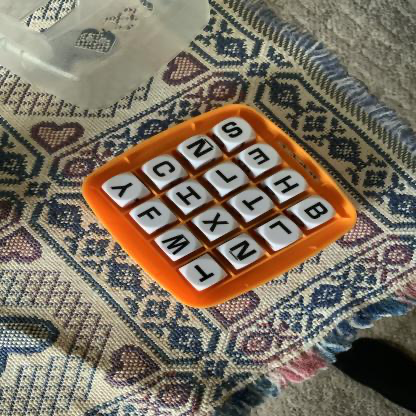b: (299, 199, 334, 225)
c: (146, 157, 183, 182)
e: (245, 146, 279, 171)
f: (135, 203, 172, 230)
h: (271, 172, 306, 198), (173, 183, 207, 209)
l: (264, 220, 300, 246), (211, 166, 246, 191)
n: (183, 136, 218, 163), (225, 239, 261, 265)
s: (217, 119, 253, 144)
t: (235, 191, 272, 218), (186, 261, 222, 287)
w: (161, 231, 196, 257)
x: (199, 211, 235, 237)
y: (107, 176, 144, 202)
